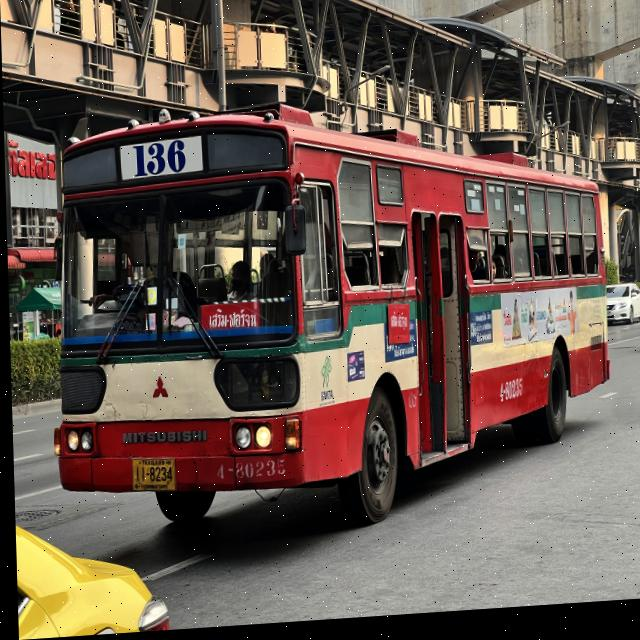BMTA-bus: (42, 76, 615, 554)
Bus Line Number: (119, 140, 201, 182)
Bus Side Number: (207, 458, 286, 485)
Destination Sign: (198, 303, 263, 336)
